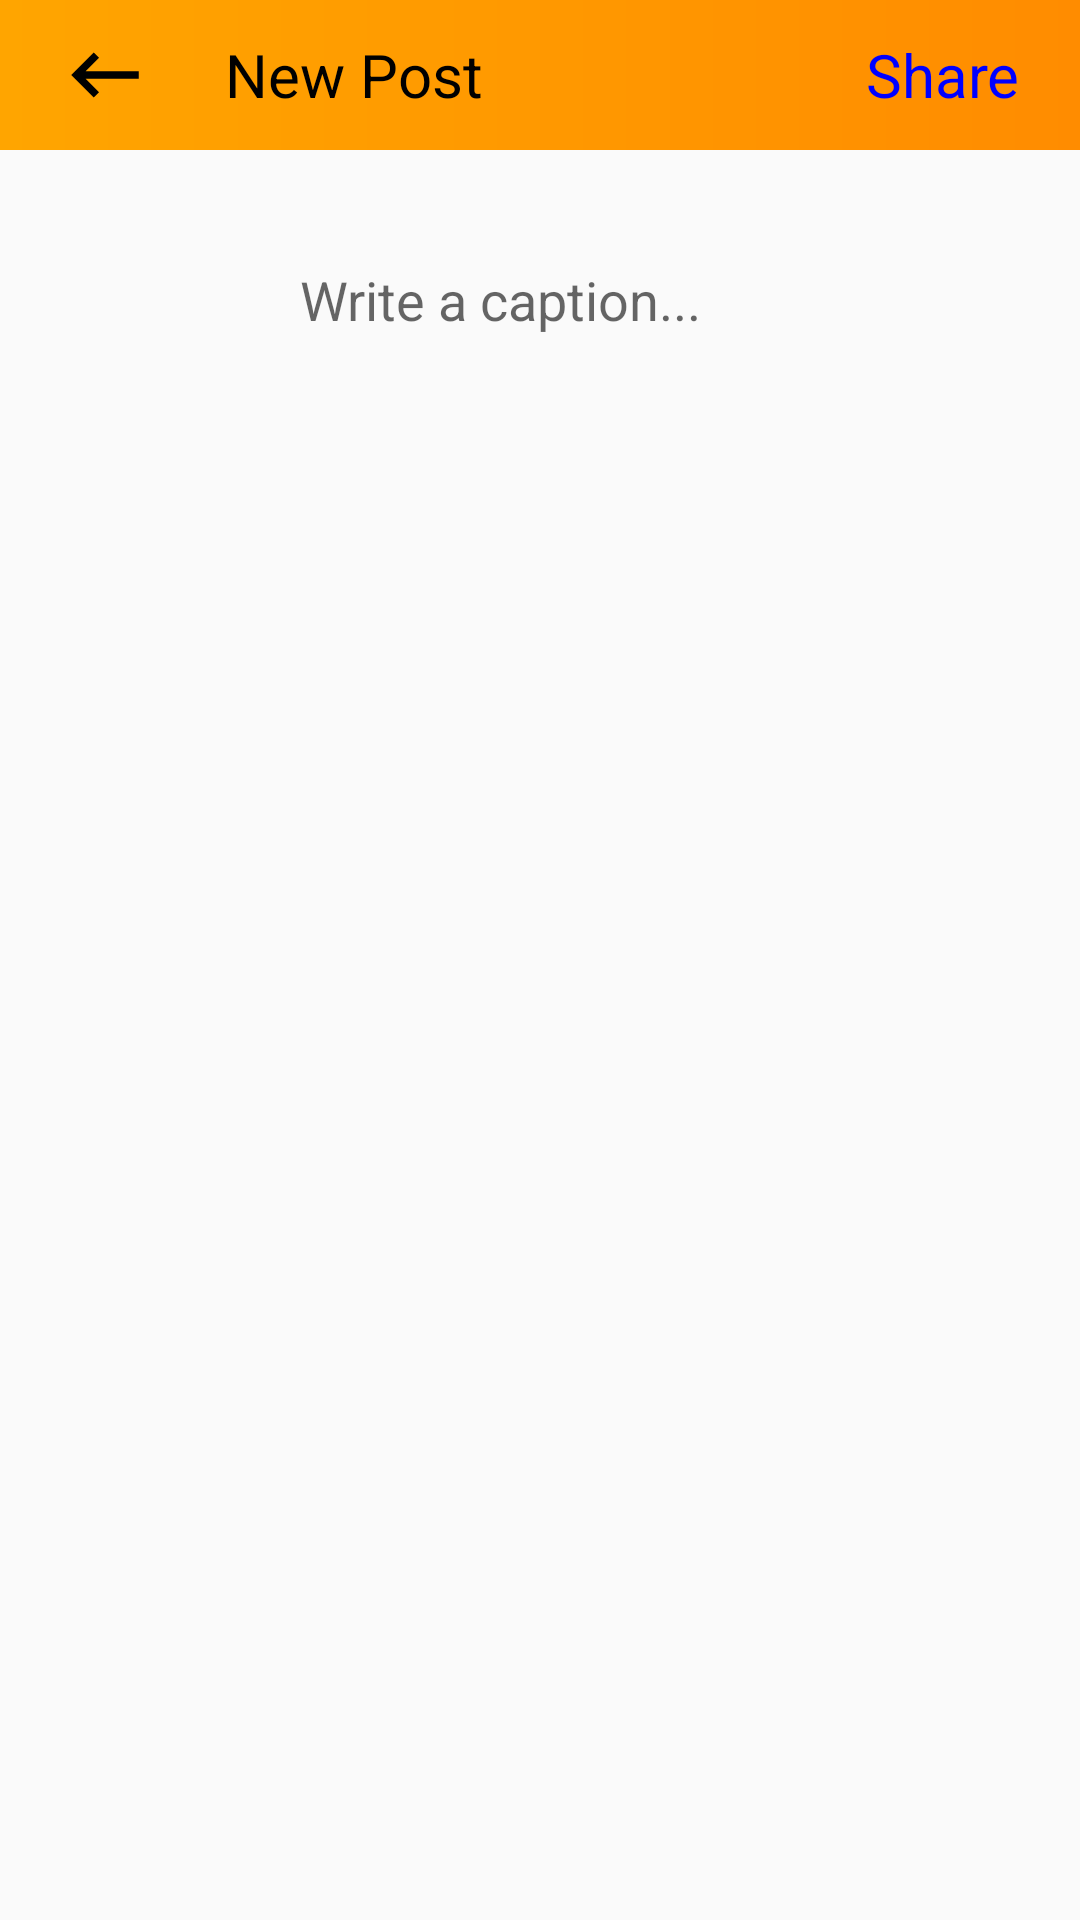

Screen size 1080px x 1920px. Icon name, then its box in pixels as rect(x1, y1, x2, y2):
back: rect(71, 52, 139, 98)
